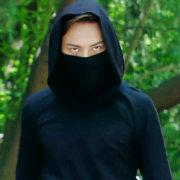OK: (60, 35, 115, 90)
